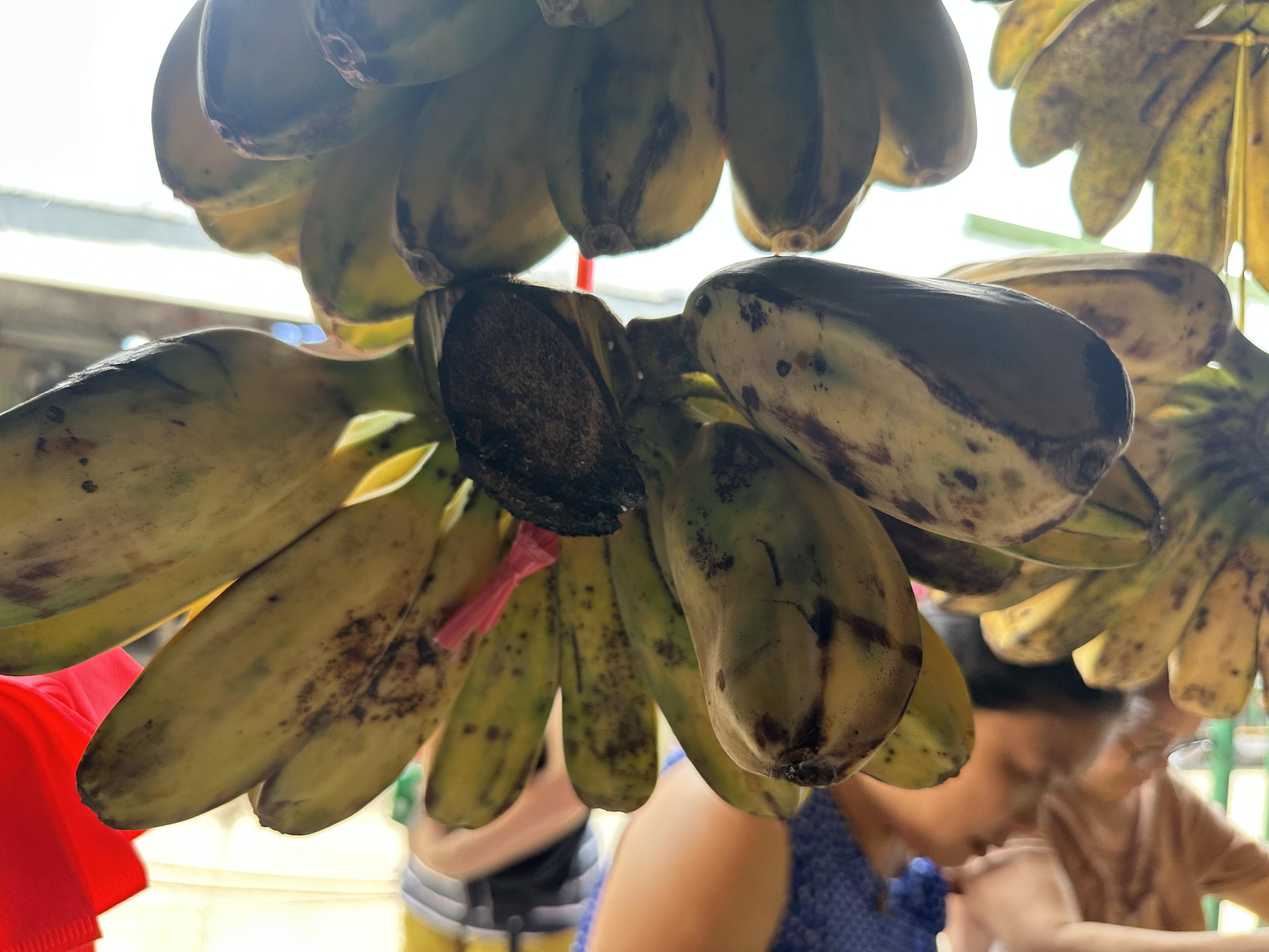ripe: (944, 251, 1269, 718)
underripe: (0, 258, 1168, 835), (152, 0, 976, 321), (989, 0, 1269, 270)
